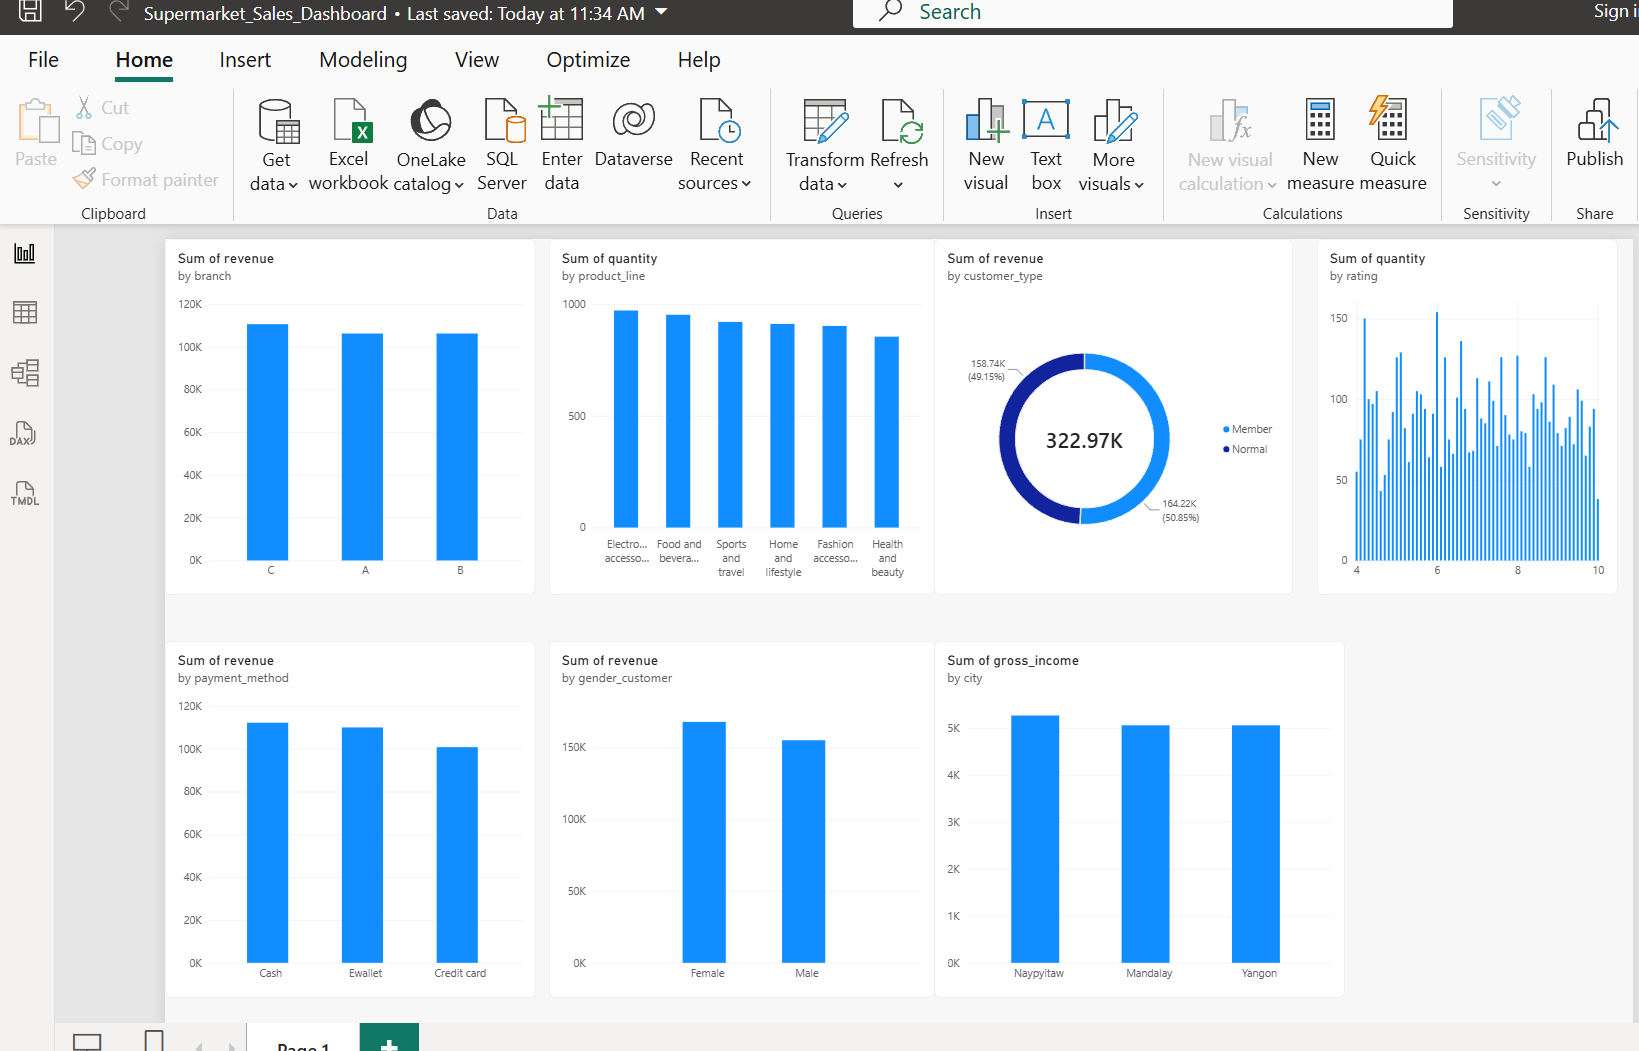

The dashboard page shown, as its layout file describes it:
{"tool":"powerbi","page":{"name":"Page 1","canvas":[1920,1080],"ordinal":0},"visuals":[{"type":"clusteredColumnChart","fields":{"Category":["supermarket_sales.branch"],"Y":["Sum(supermarket_sales.revenue)"]},"box":[0,0,483.8,465.5],"z":0},{"type":"clusteredColumnChart","fields":{"Category":["supermarket_sales.product_line"],"Y":["Sum(supermarket_sales.quantity)"]},"box":[502.1,0,504.3,465.5],"z":1},{"type":"donutChart","fields":{"Category":["supermarket_sales.customer_type"],"Y":["Sum(supermarket_sales.revenue)"]},"box":[1006.4,0,467.8,465.5],"z":2},{"type":"clusteredColumnChart","fields":{"Category":["supermarket_sales.payment_method"],"Y":["Sum(supermarket_sales.revenue)"]},"box":[0,524.9,484,466],"z":3},{"type":"clusteredColumnChart","fields":{"Category":["supermarket_sales.gender_customer"],"Y":["Sum(supermarket_sales.revenue)"]},"box":[502.1,524.9,504,466],"z":4},{"type":"clusteredColumnChart","fields":{"Category":["supermarket_sales.city"],"Y":["Sum(supermarket_sales.gross_income)"]},"box":[1006,525,536,466],"z":5},{"type":"clusteredColumnChart","fields":{"Category":["supermarket_sales.rating"],"Y":["Sum(supermarket_sales.quantity)"]},"box":[1506.2,0,392.5,465.5],"z":6}]}

Visuals, with their boxes on the page's 1920x1080 design canvas (x1, y1, x2, y2). These are canvas units, not pixel positions in the 1639x1051 screenshot, which may show the page scaled, cropped or inside an application window:
clusteredColumnChart - supermarket_sales.branch x Sum(supermarket_sales.revenue): locate(0, 0, 484, 466)
clusteredColumnChart - supermarket_sales.product_line x Sum(supermarket_sales.quantity): locate(502, 0, 1006, 466)
donutChart - supermarket_sales.customer_type x Sum(supermarket_sales.revenue): locate(1006, 0, 1474, 466)
clusteredColumnChart - supermarket_sales.payment_method x Sum(supermarket_sales.revenue): locate(0, 525, 484, 991)
clusteredColumnChart - supermarket_sales.gender_customer x Sum(supermarket_sales.revenue): locate(502, 525, 1006, 991)
clusteredColumnChart - supermarket_sales.city x Sum(supermarket_sales.gross_income): locate(1006, 525, 1542, 991)
clusteredColumnChart - supermarket_sales.rating x Sum(supermarket_sales.quantity): locate(1506, 0, 1899, 466)
